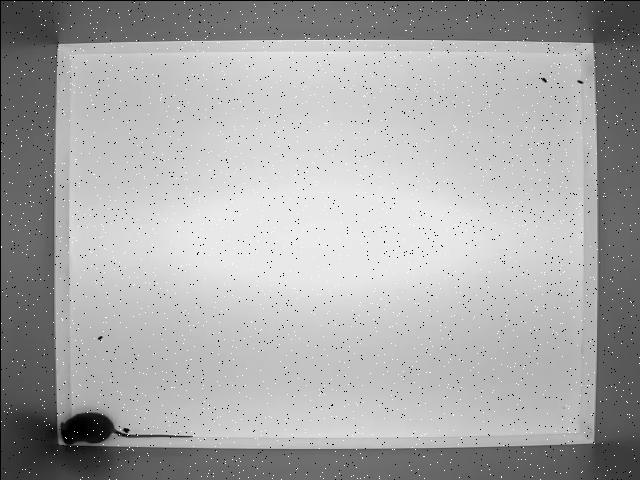Tikus: (56, 410, 195, 446)
